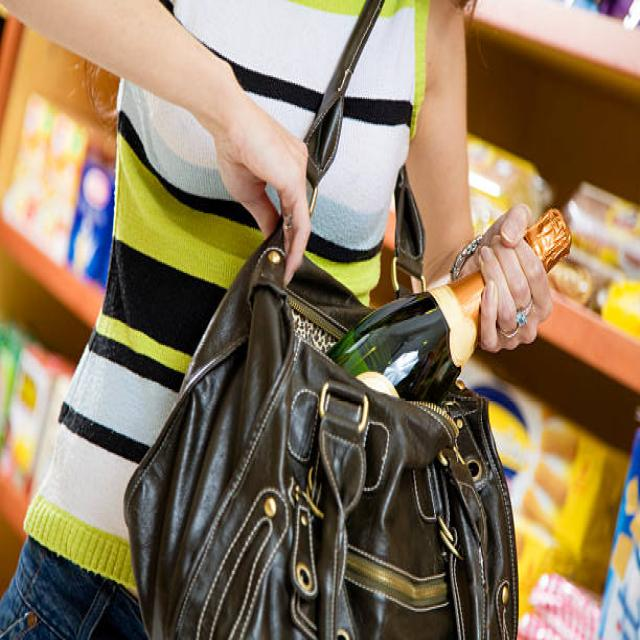article: (329, 271, 484, 402), (525, 212, 570, 270)
bags: (122, 0, 518, 638)
hands: (7, 0, 310, 281), (461, 204, 551, 350)
person: (0, 0, 551, 638)
